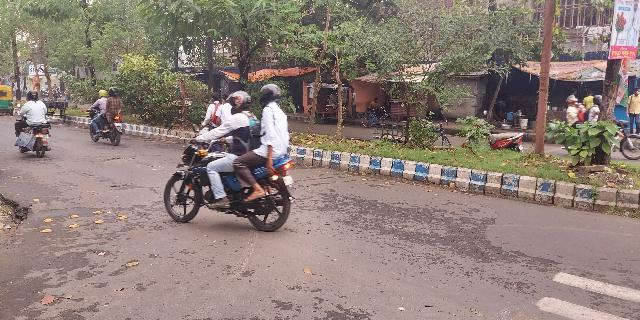Motorbike: (160, 86, 294, 241), (7, 90, 55, 158), (84, 87, 123, 144)
